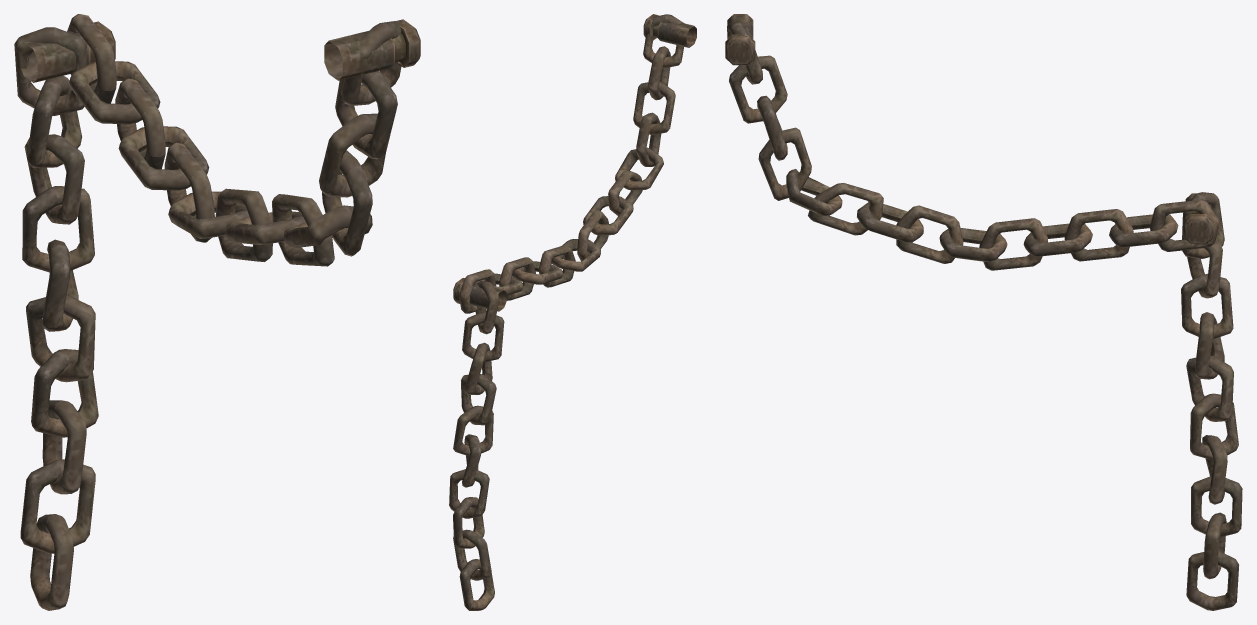
The picture shows the model from 3 angles, left to right: view 1: azimuth 30°, elevation 25°; view 2: azimuth 150°, elevation 25°; view 3: azimuth 270°, elevation 25°; orthographic projection. The views are drawn at different scales.
Parts seen in each view (by area): view 1: SM_DR_Chain_Wall_01_LOD0; view 2: SM_DR_Chain_Wall_01_LOD0; view 3: SM_DR_Chain_Wall_01_LOD0.
Part boxes in pixels (bbox=[...]): SM_DR_Chain_Wall_01_LOD0: bbox=[14, 14, 420, 610]; SM_DR_Chain_Wall_01_LOD0: bbox=[449, 14, 696, 610]; SM_DR_Chain_Wall_01_LOD0: bbox=[725, 14, 1242, 610].
Size of the model in its own units: 0.5012 by 3.93 by 3.14.
Materials: 1 (1 with a texture image).
